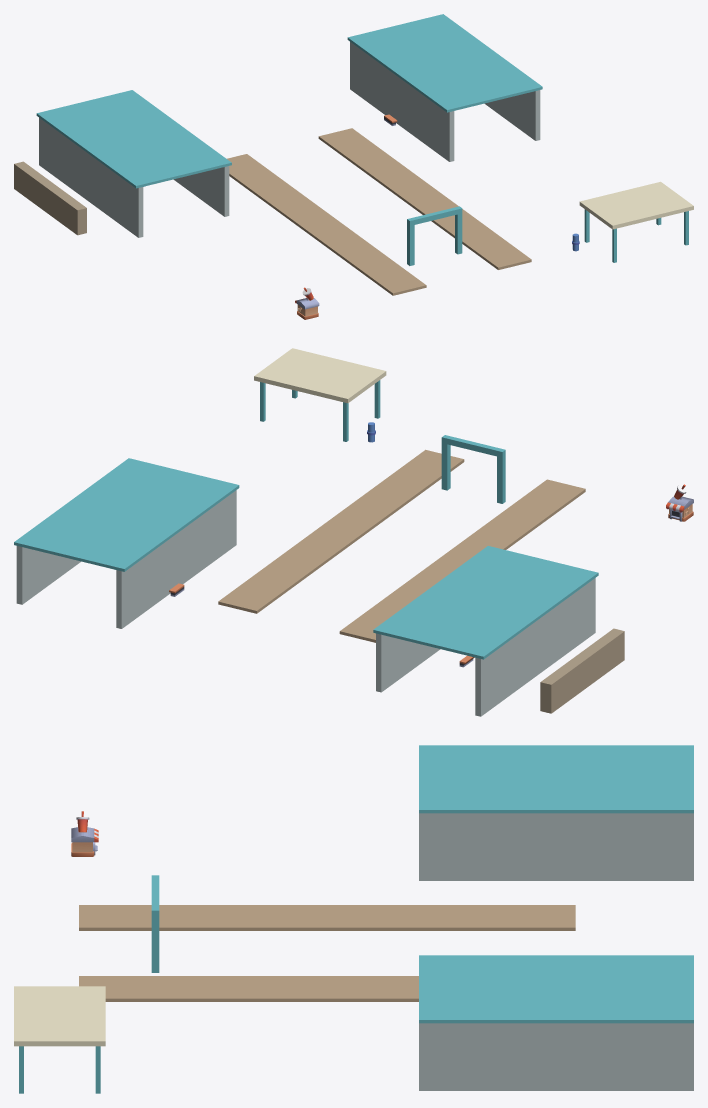
Rendered from gardens-5-5.glb.
The picture shows the model from 3 angles, top to bottom: view 1: azimuth 30°, elevation 25°; view 2: azimuth 150°, elevation 25°; view 3: azimuth 270°, elevation 25°; orthographic projection. The views are drawn at different scales.
Visible parts, largest first — view 1: gardens-5-5; view 2: gardens-5-5; view 3: gardens-5-5.
Part boxes in pixels (x1=…): gardens-5-5: x1=14, y1=14, x2=693, y2=319; gardens-5-5: x1=14, y1=348, x2=693, y2=716; gardens-5-5: x1=14, y1=745, x2=693, y2=1093.
Bounding box in the file's own units: 189 × 21 × 178.
9 materials, 4 textured.
